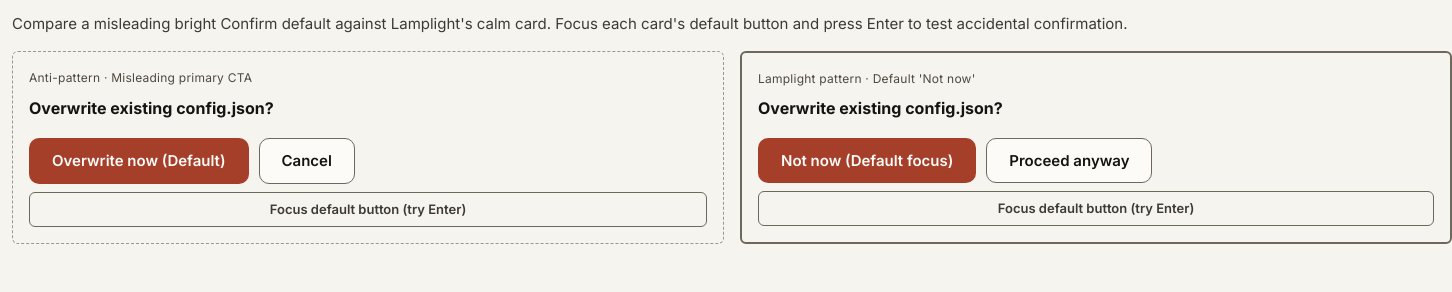
Scenario: Web Platform Primitives & /lab Exhibition › PrimitiveRiskCard contrasts Enter behavior between anti-pattern and calm pattern
Step 1. Click the button "Not now (Default focus)" → coordinates (867, 160), box [758,138,976,183]
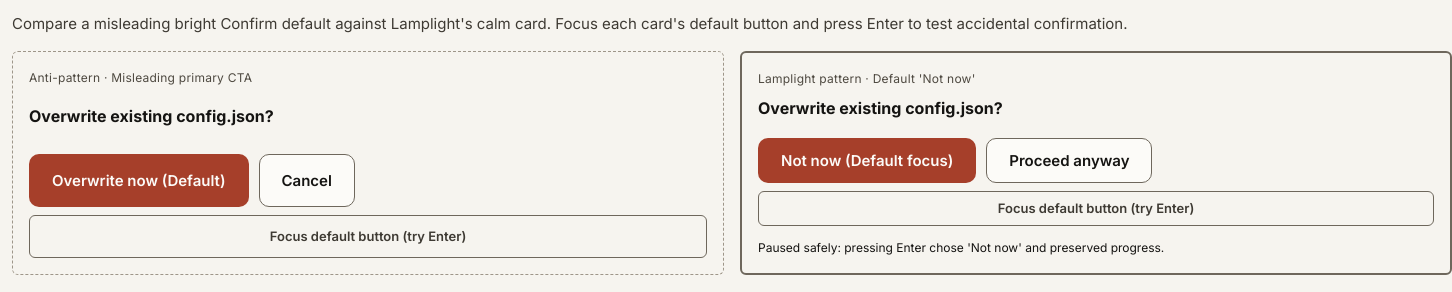
Result: the message shows "Paused safely" at [758,240,1164,255]
